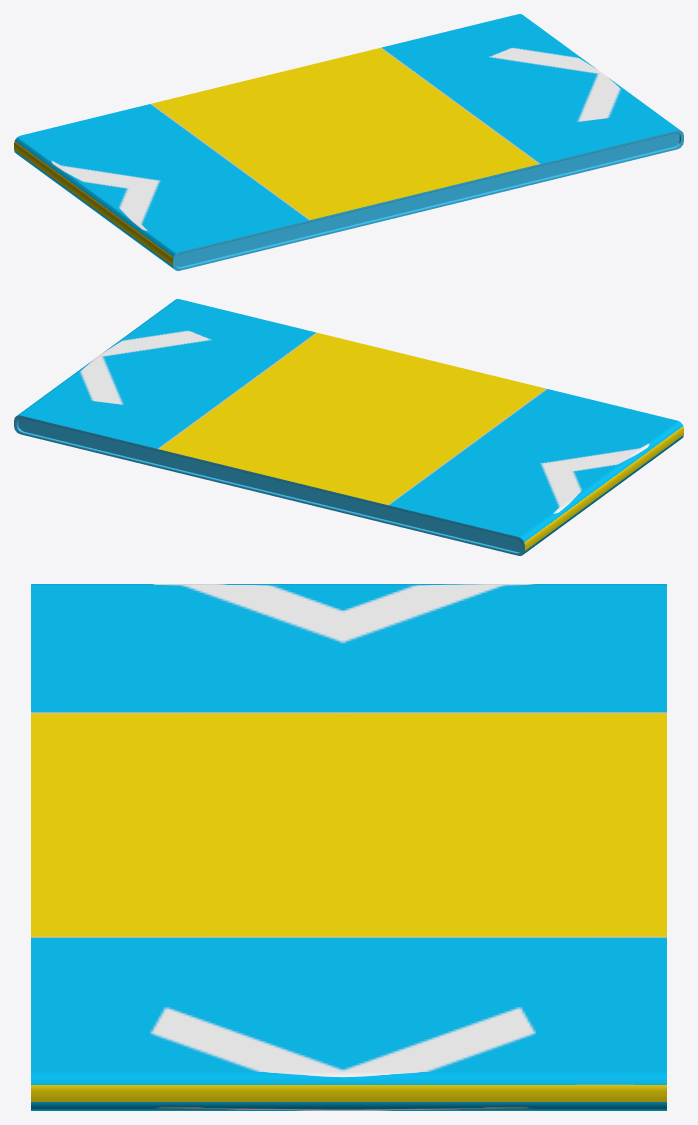
File: PLF0110064.fbx
3 renders of one model, top to bottom at view 1: azimuth 30°, elevation 25°; view 2: azimuth 150°, elevation 25°; view 3: azimuth 270°, elevation 25°, orthographic. The views are drawn at different scales.
Parts seen in each view (by area): view 1: smPLF0110064; view 2: smPLF0110064; view 3: smPLF0110064.
Part boxes in pixels (x1=…): smPLF0110064: x1=14, y1=14, x2=683, y2=270; smPLF0110064: x1=14, y1=299, x2=683, y2=555; smPLF0110064: x1=31, y1=584, x2=666, y2=1110.
Bounding box in the file's own units: 600 × 21.15 × 323.
2 materials, 2 textured.
